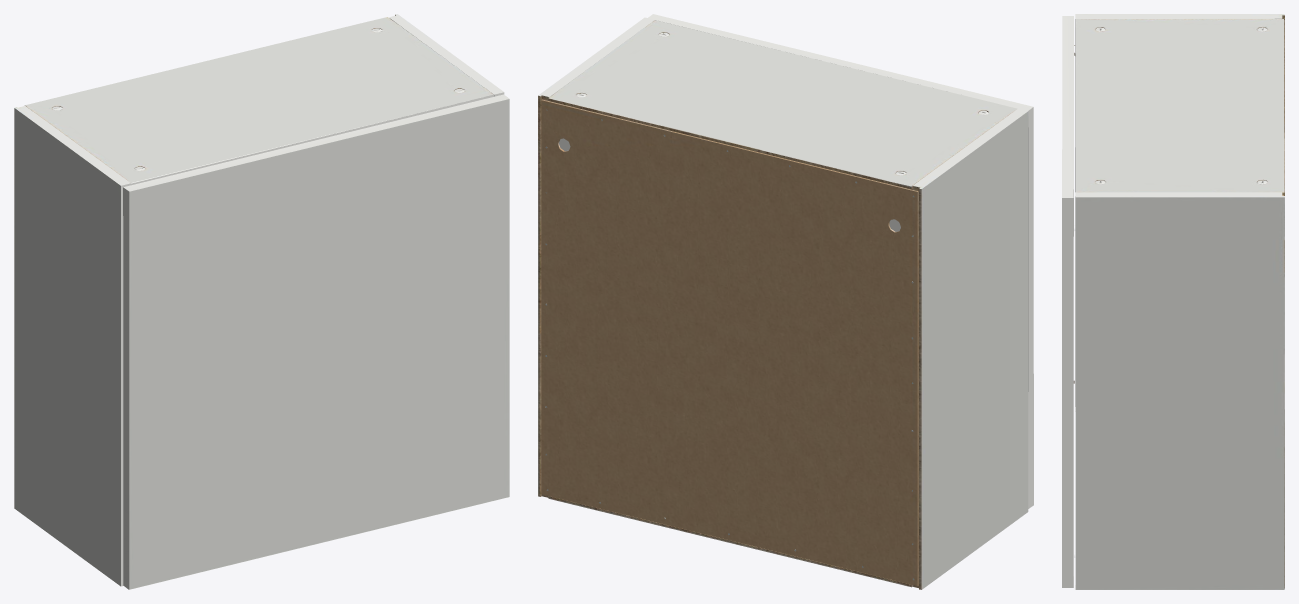
Rendered from knoxhult_szafka_wiszaca_z_drzwiczkami_10326791.glb.
3 views of the same model, side by side, from view 1: azimuth 30°, elevation 25°; view 2: azimuth 150°, elevation 25°; view 3: azimuth 270°, elevation 25° (orthographic). The views are drawn at different scales.
Parts seen in each view (by area): view 1: knoxhult_szafka_wiszaca_z_drzwiczkami_10326791; view 2: knoxhult_szafka_wiszaca_z_drzwiczkami_10326791; view 3: knoxhult_szafka_wiszaca_z_drzwiczkami_10326791.
Part boxes in pixels (x1,y1,x2,y2): knoxhult_szafka_wiszaca_z_drzwiczkami_10326791: (14, 14, 509, 589); knoxhult_szafka_wiszaca_z_drzwiczkami_10326791: (538, 14, 1033, 589); knoxhult_szafka_wiszaca_z_drzwiczkami_10326791: (1062, 14, 1284, 589).
Bounding box in the file's own units: 0.6002 × 0.6 × 0.3081.
Materials: 2 (2 with a texture image).
